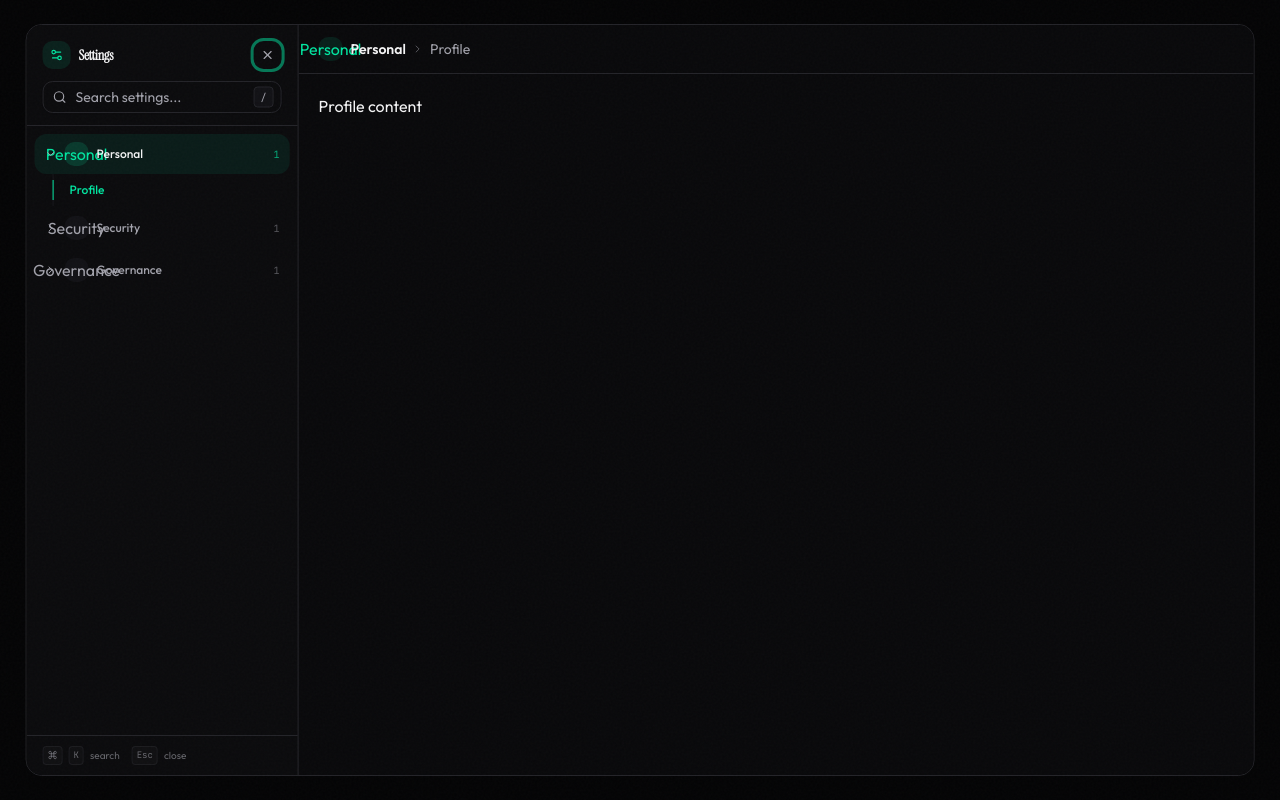
Scenario: SettingsDialog › filters concerns and sections from the search box
The width and height of the screenshot is (1280, 800).
Expected: the text "Profile content" is shown, [319,96,422,116]
Type "settings" into the field with placeholder "Search settings..." at coordinates (162, 97), box [43,81,282,113]
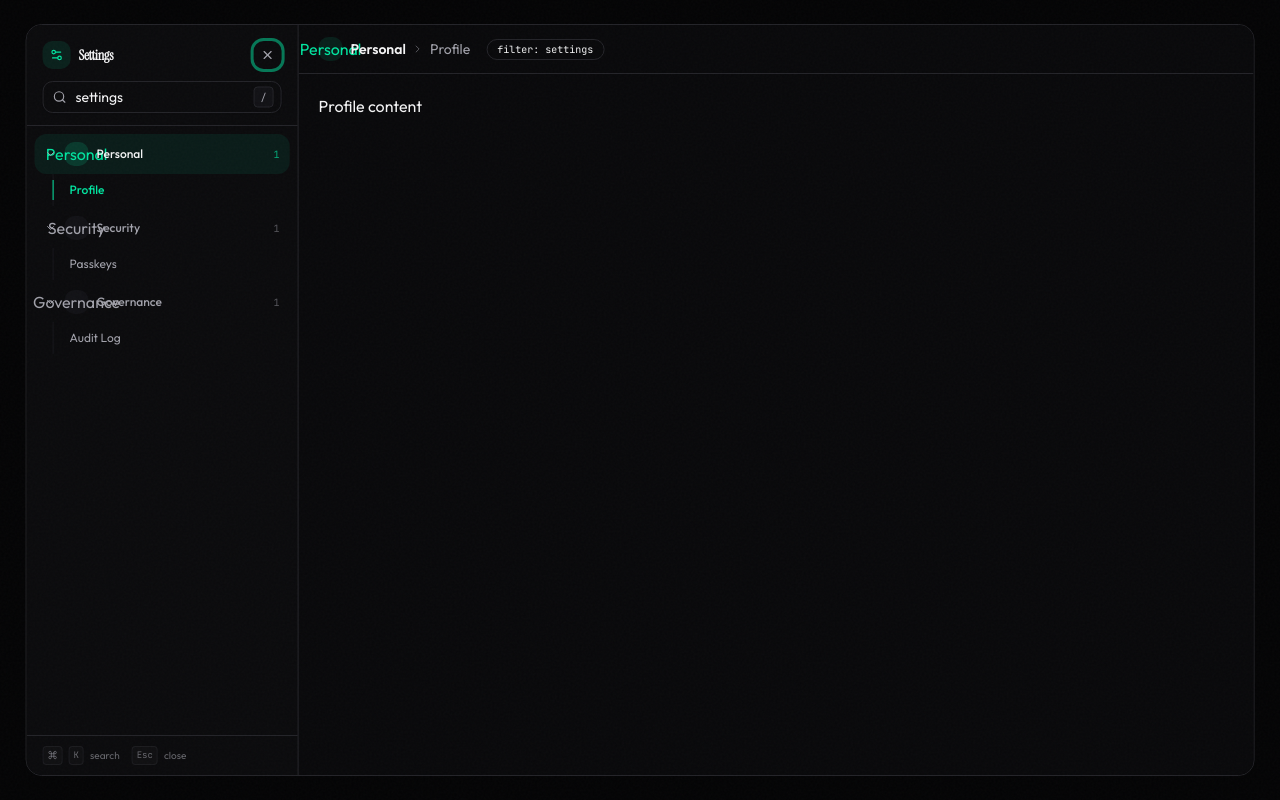
Expected: the button "Profile" is shown, [54,176,290,204]
Now the button "Passkeys" is shown, box [54,250,290,278]
Now the button "Audit Log" is shown, box [54,324,290,352]
